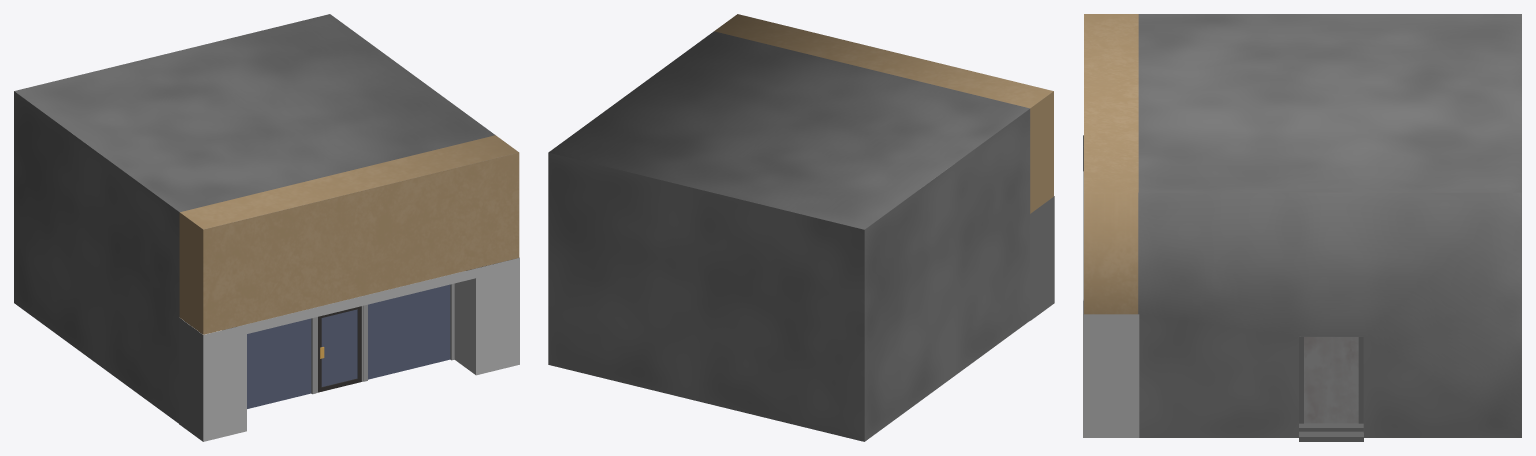
Rendered from restaurant_1.fbx.
The picture shows the model from 3 angles, left to right: view 1: azimuth 30°, elevation 25°; view 2: azimuth 150°, elevation 25°; view 3: azimuth 270°, elevation 25°; orthographic projection. The views are drawn at different scales.
Visible parts, largest first — view 1: 002; view 2: 002; view 3: 002.
Boxes of the visible parts, bbox=[...] form: 002: bbox=[14, 14, 519, 441]; 002: bbox=[548, 14, 1054, 441]; 002: bbox=[1083, 14, 1521, 441].
Size of the model in its own units: 2064 by 1292 by 2094.
